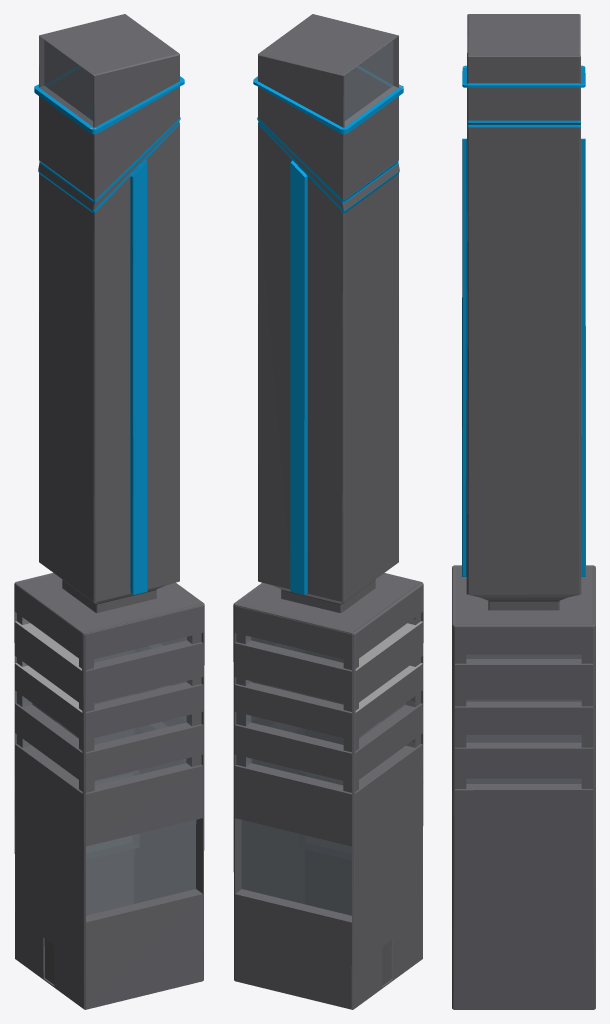
The model's file is Skyscraper1.fbx.
3 renders of one model, left to right at view 1: azimuth 30°, elevation 25°; view 2: azimuth 150°, elevation 25°; view 3: azimuth 270°, elevation 25°, orthographic. The views are drawn at different scales.
Parts seen in each view (by area): view 1: SKyscraper2_Point; view 2: SKyscraper2_Point; view 3: SKyscraper2_Point.
Boxes of the visible parts, box(x1,y1,x2,y2) form: SKyscraper2_Point: box(14, 14, 204, 1009); SKyscraper2_Point: box(233, 14, 423, 1009); SKyscraper2_Point: box(452, 14, 595, 1009).
Bounding box in the file's own units: 3066 × 22162 × 3056.
